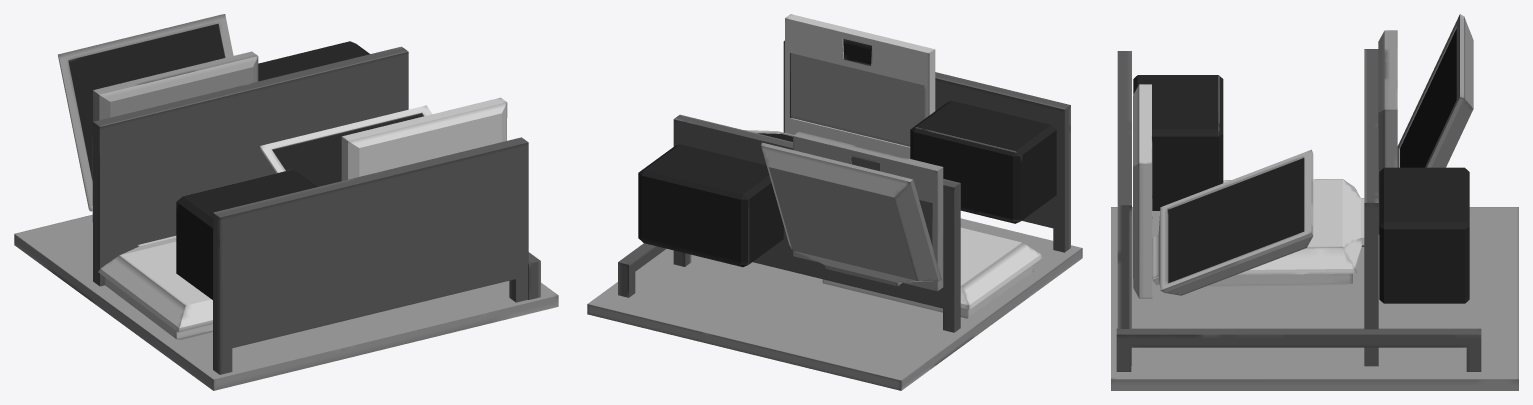
The model's file is Laptops_B.fbx.
3 views of the same model, side by side, from view 1: azimuth 30°, elevation 25°; view 2: azimuth 150°, elevation 25°; view 3: azimuth 270°, elevation 25° (orthographic). The views are drawn at different scales.
Parts seen in each view (by area): view 1: Laptops_B; view 2: Laptops_B; view 3: Laptops_B.
Boxes of the visible parts, box(x1,y1,x2,y2) form: Laptops_B: box(14, 14, 558, 390); Laptops_B: box(587, 14, 1082, 390); Laptops_B: box(1111, 14, 1518, 390).
Bounding box in the file's own units: 200 × 115 × 200.
